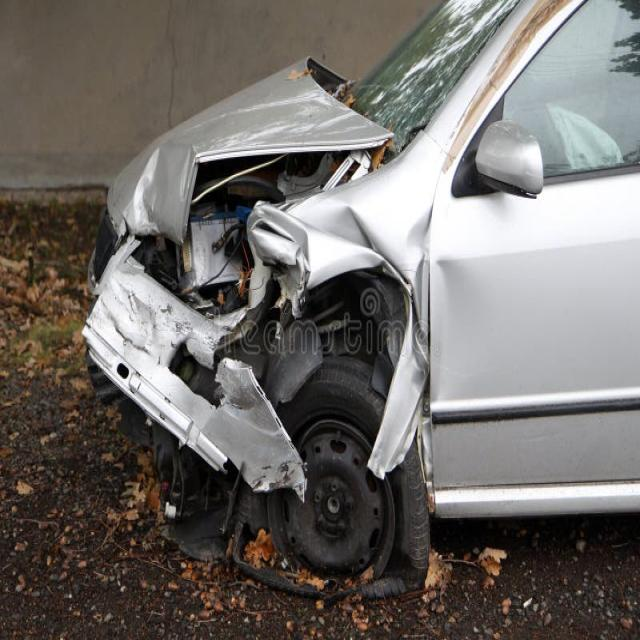crush: (79, 56, 473, 558)
